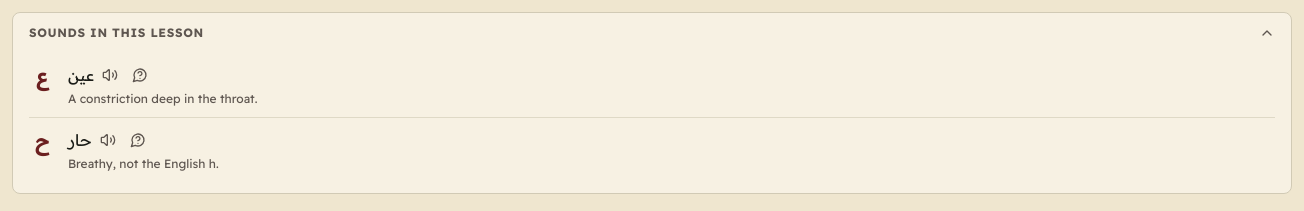
it: SoundSpotlight — collapsing › opens again
Click the button "Sounds in this lesson".
click(116, 32)  # box [13,13,1291,53]
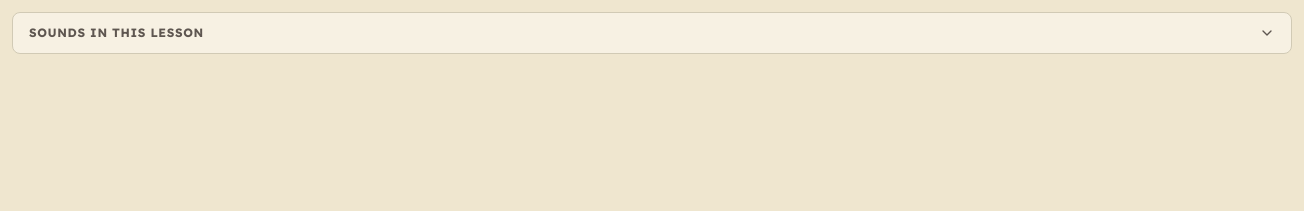
Click the button "Sounds in this lesson".
click(116, 32)  # box [13,13,1291,53]
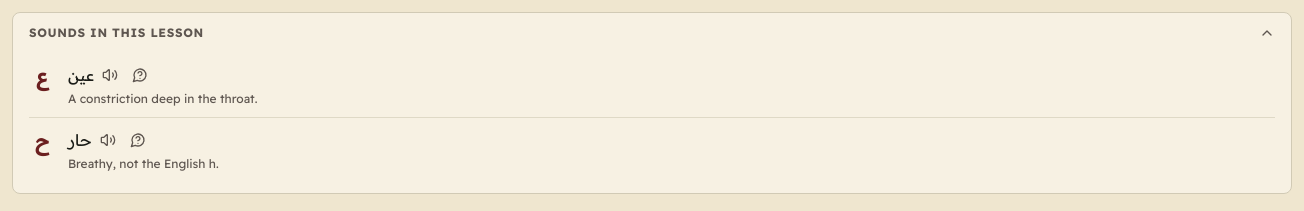
expect the text "عين" is shown: met, box [68,63,94,87]
